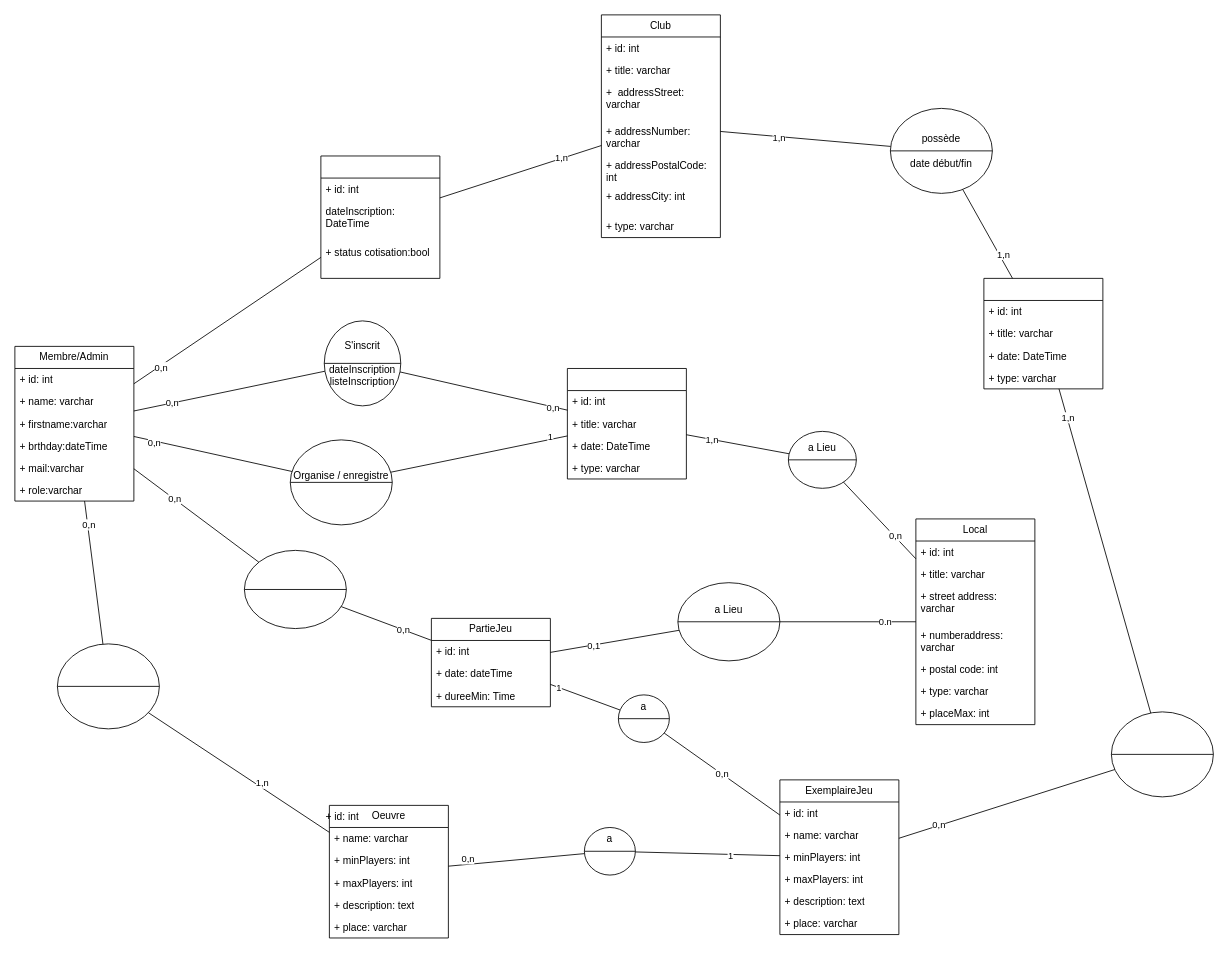
The diagram is 1228 pixels wide and 955 high, and some of its shapes have lost their labels. Each missing label, with the box of its shape:
consitue quantity, place,: (1111, 711, 1213, 797)
Evènement: (567, 368, 686, 479)
gère (CRUD), dateModification: (57, 643, 159, 729)
Inscription/club: (320, 155, 440, 278)
Ludothèque: (983, 278, 1103, 389)
S'inscrit dateIncription: (244, 550, 346, 629)
